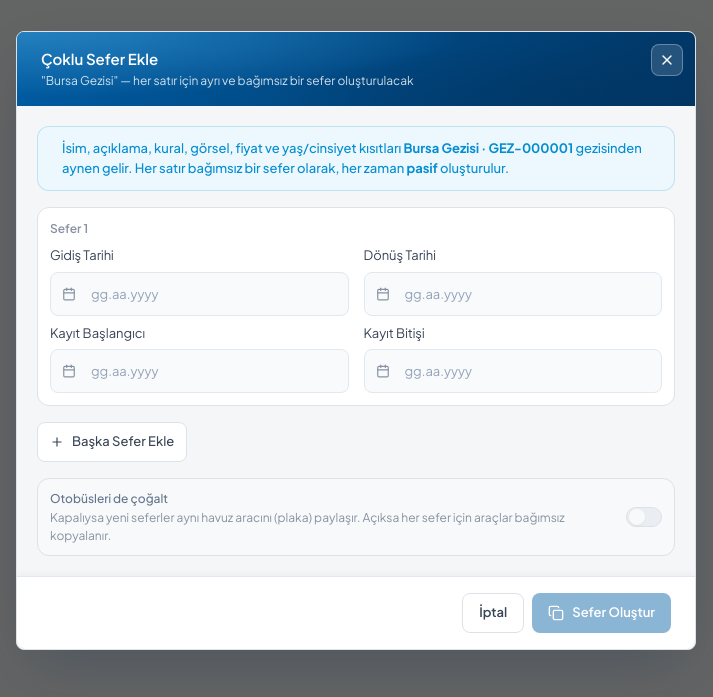
Test: TravelBulkCopyModal › adding a row shows a second independent set of date fields
The width and height of the screenshot is (713, 697).
Step 1. Click the button "Başka Sefer Ekle" → {"x": 112, "y": 442}, box x1=37 y1=422 x2=187 y2=462
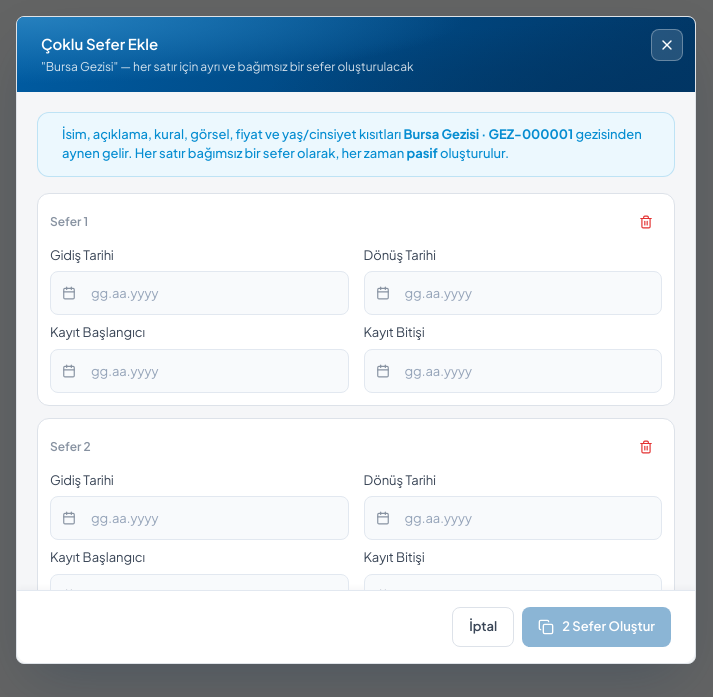
Expected: the text "Sefer 1" is shown, x1=50 y1=212 x2=88 y2=230
Expected: the text "Sefer 2" is shown, x1=50 y1=438 x2=91 y2=456
Expected: the number of buttons named "Bu satırı kaldır" is 2, x1=630 y1=206 x2=662 y2=238; x1=630 y1=430 x2=662 y2=462
